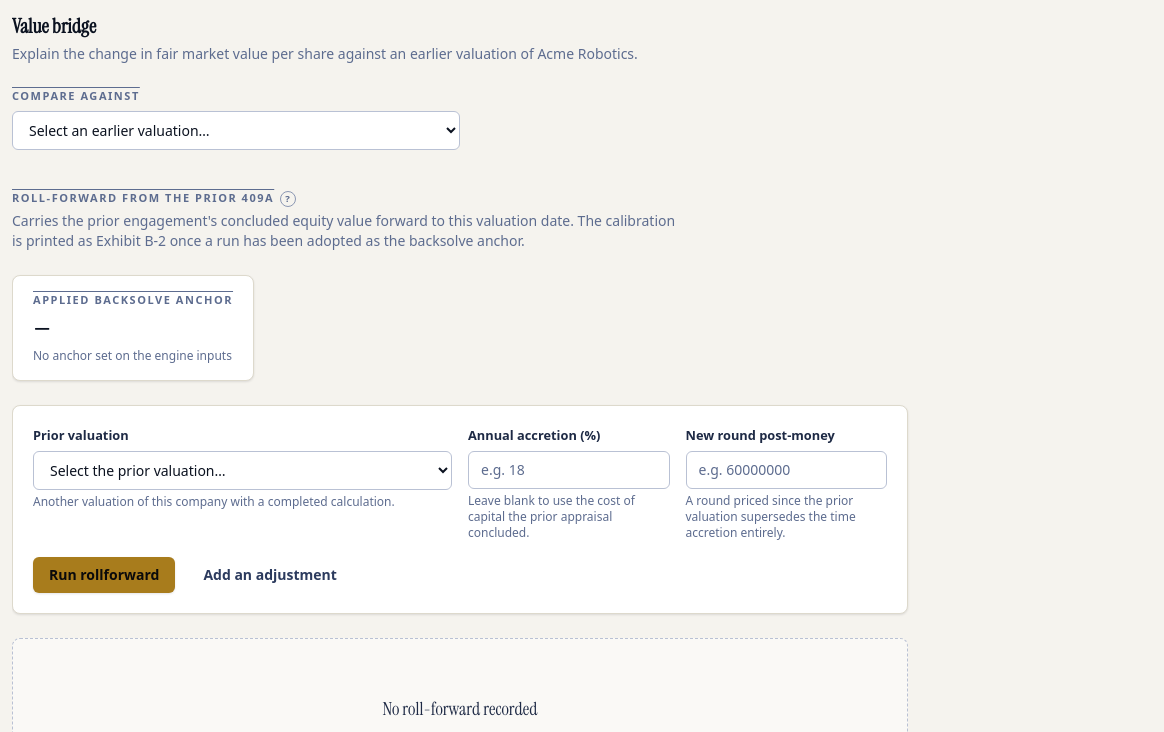
Test: BridgeTab › fetches and renders the bridge for the selected prior valuation
Select "V-2025-004 · Oct 1, 2025, 10:00 AM · $1.1000" in the dropdown labelled "Compare against": [236, 130] box [12,110,460,150]
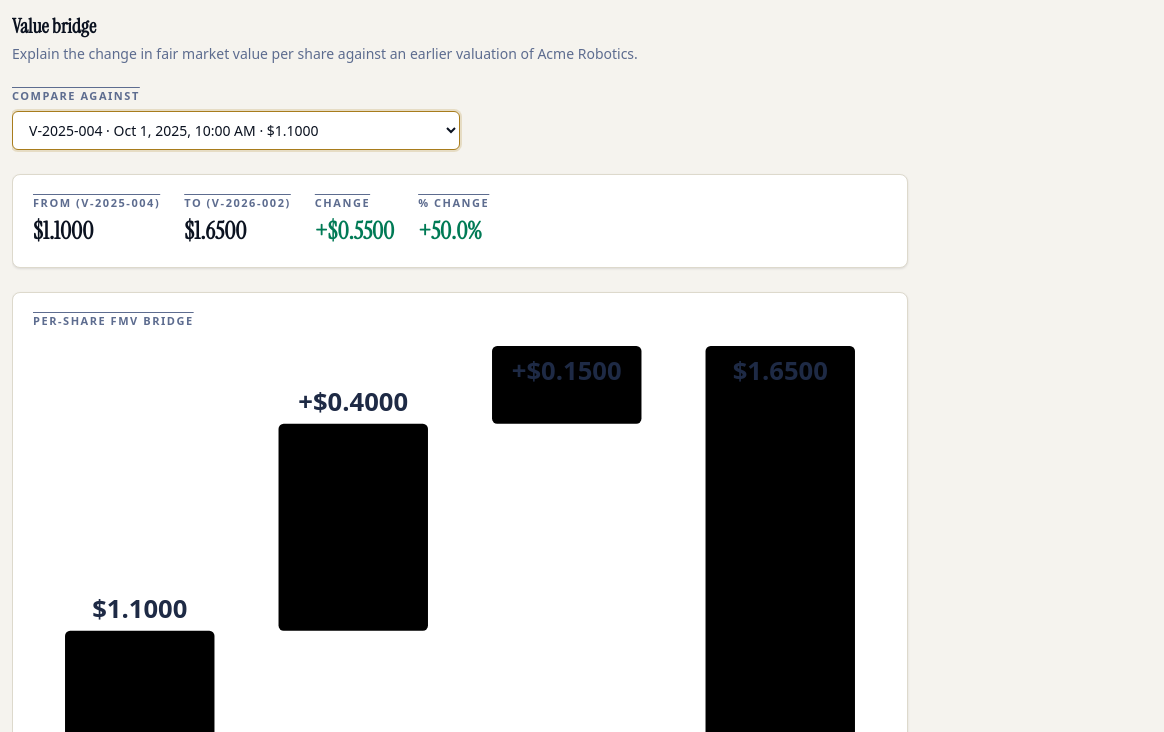
Expected: the text "From (V-2025-004)" is shown, [33,194,160,211]
Expected: the text "To (V-2026-002)" is shown, [184,194,291,211]
Expected: the text "$1.1000" is shown, [33,215,93,246]
